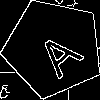A: (28, 23, 85, 80)
